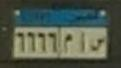6: (47, 30, 58, 54), (16, 30, 25, 54), (37, 31, 46, 54), (27, 30, 36, 53)
alif: (78, 32, 86, 52)
meem: (64, 32, 73, 54)
seen: (89, 36, 105, 53)
